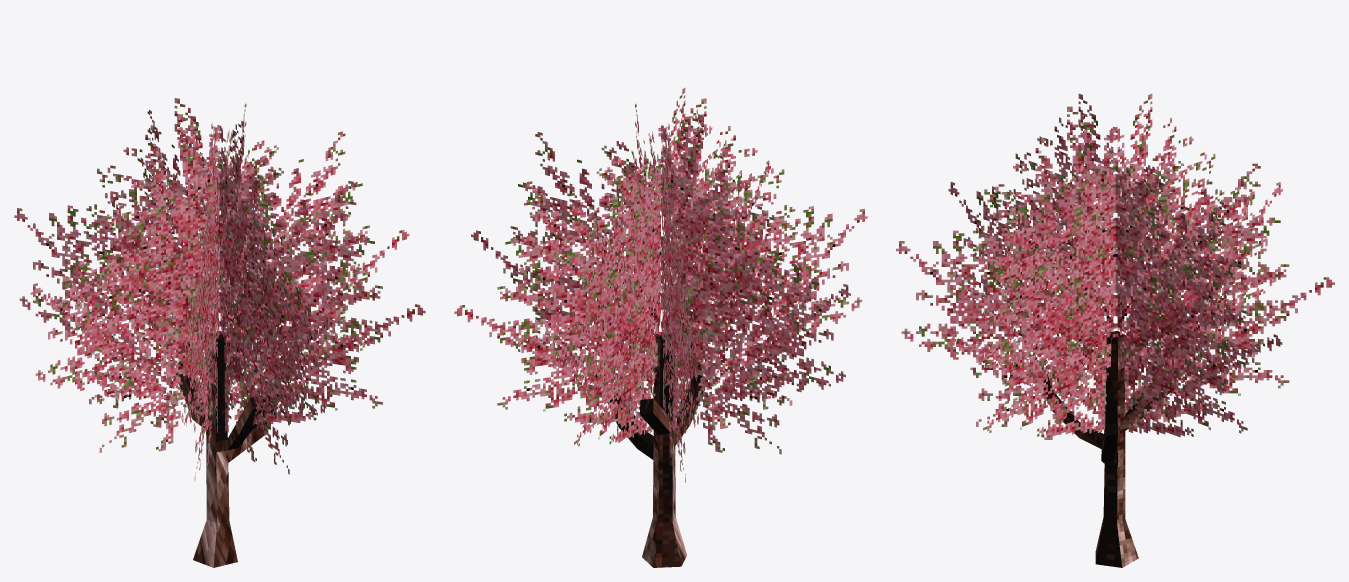
Rendered from Sakura Tree 2.glb.
The picture shows the model from 3 angles, left to right: view 1: azimuth 30°, elevation 25°; view 2: azimuth 150°, elevation 25°; view 3: azimuth 270°, elevation 25°; orthographic projection.
Visible parts, largest first — view 1: Texture 5, Trunk.004; view 2: Texture 5, Trunk.004; view 3: Texture 5, Trunk.004.
Boxes of the visible parts, x1,y1,x2,y2 form: Texture 5: [14, 98, 425, 480]; Trunk.004: [175, 332, 279, 567]; Texture 5: [454, 87, 867, 482]; Trunk.004: [607, 334, 704, 567]; Texture 5: [896, 93, 1334, 439]; Trunk.004: [1043, 331, 1169, 567].
Bounding box in the file's own units: 37.09 × 42.3 × 37.09.
2 materials, 2 textured.
